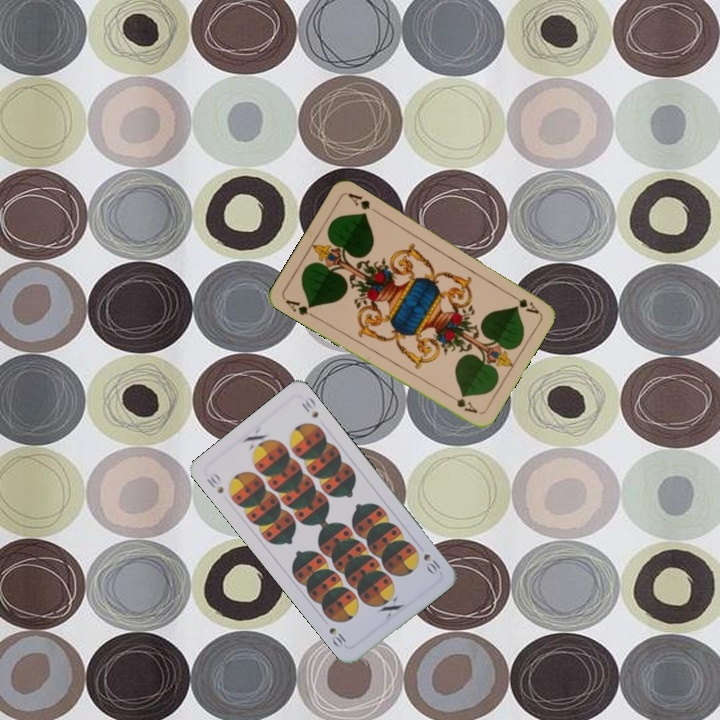GA: (505, 289, 542, 317), (281, 295, 318, 320)
S10: (419, 549, 443, 576), (202, 469, 226, 496)
